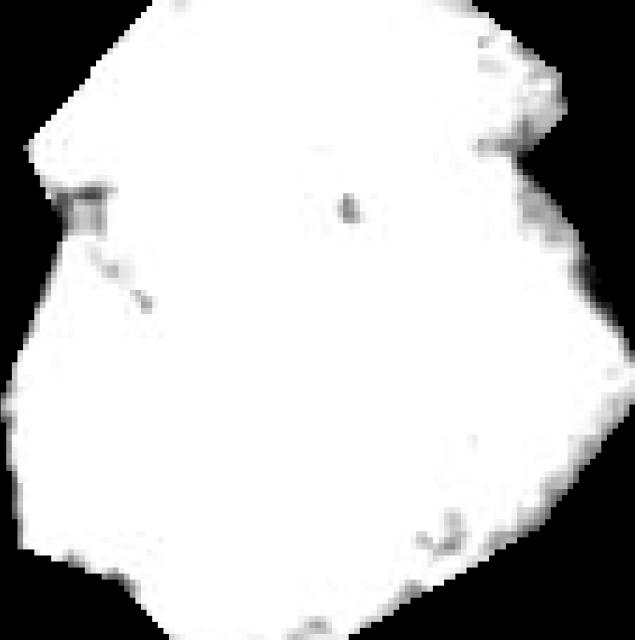tumor_good_chance: (1, 0, 635, 640)
